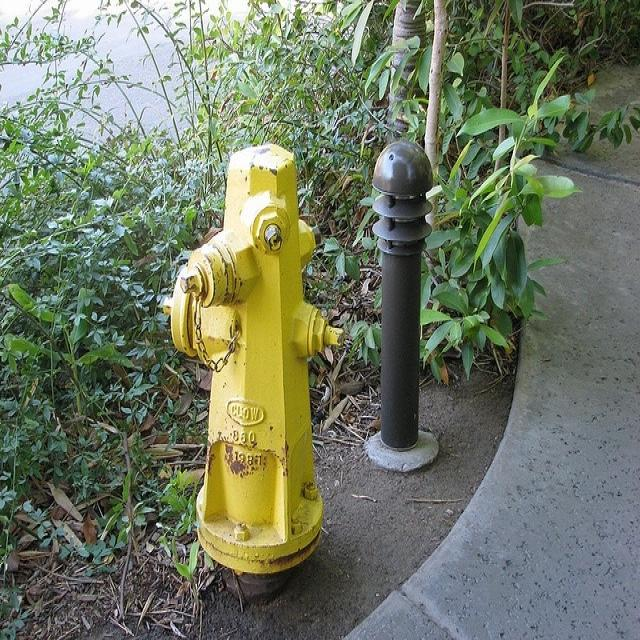fire_hydrant: (175, 127, 344, 581)
